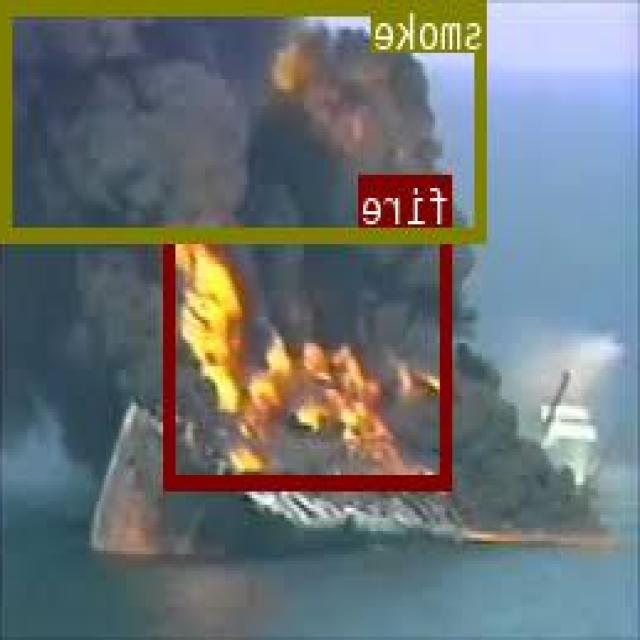fire: (166, 228, 454, 487)
smoke: (5, 0, 487, 238)
